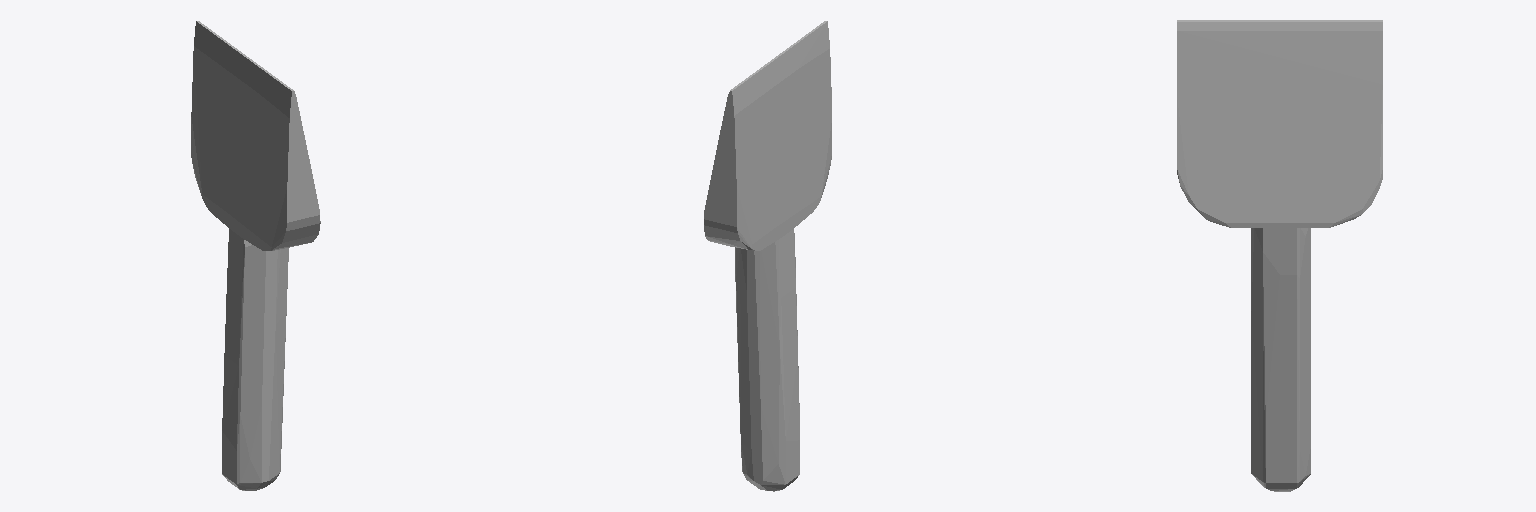
URDF robot description (root):
<robot name="root">
  <link name="link_thingiverse~spade_5372852_convex_piece_0">
    <inertial>
      <origin rpy="0 0 0" xyz="0 0 0"/>
      <mass value="3.45E-01"/>
      <inertia ixx="2.24E-03" ixy="-3.62E-08" ixz="2.30E-05" iyy="2.24E-03" iyz="-7.67E-06" izz="4.09E-05"/>
    </inertial>
    <visual>
      <origin rpy="0 0 0" xyz="0 0 0"/>
      <geometry>
        <mesh filename="thingiverse~spade_5372852_convex_piece_0.obj" scale="1.0000E+00 1.0000E+00 1.0000E+00"/>
      </geometry>
      <material name="">
        <color rgba="7.50E-01 7.50E-01 7.50E-01 1"/>
      </material>
    </visual>
    <collision>
      <origin rpy="0 0 0" xyz="0 0 0"/>
      <geometry>
        <mesh filename="thingiverse~spade_5372852_convex_piece_0.obj" scale="1.0000E+00 1.0000E+00 1.0000E+00"/>
      </geometry>
    </collision>
  </link>
  <link name="link_thingiverse~spade_5372852_convex_piece_1">
    <inertial>
      <origin rpy="0 0 0" xyz="0 0 0"/>
      <mass value="5.12E-01"/>
      <inertia ixx="2.03E-03" ixy="3.17E-07" ixz="-5.60E-05" iyy="1.62E-03" iyz="-8.11E-06" izz="4.51E-04"/>
    </inertial>
    <visual>
      <origin rpy="0 0 0" xyz="0 0 0"/>
      <geometry>
        <mesh filename="thingiverse~spade_5372852_convex_piece_1.obj" scale="1.0000E+00 1.0000E+00 1.0000E+00"/>
      </geometry>
      <material name="">
        <color rgba="7.50E-01 7.50E-01 7.50E-01 1"/>
      </material>
    </visual>
    <collision>
      <origin rpy="0 0 0" xyz="0 0 0"/>
      <geometry>
        <mesh filename="thingiverse~spade_5372852_convex_piece_1.obj" scale="1.0000E+00 1.0000E+00 1.0000E+00"/>
      </geometry>
    </collision>
  </link>
  <joint name="link_thingiverse~spade_5372852_convex_piece_1_joint" type="fixed">
    <origin rpy="0 0 0" xyz="0 0 0"/>
    <parent link="link_thingiverse~spade_5372852_convex_piece_0"/>
    <child link="link_thingiverse~spade_5372852_convex_piece_1"/>
  </joint>
</robot>

--- Render facts (derived) ---
3 views of the same robot in one strip: view 1: azimuth 30°, elevation 25°; view 2: azimuth 150°, elevation 25°; view 3: azimuth 270°, elevation 25° (orthographic).
Robot: root — 2 links, 1 joints (1 fixed); root link link_thingiverse~spade_5372852_convex_piece_0; default pose: every joint at zero.
Visible links, largest first — view 1: link_thingiverse~spade_5372852_convex_piece_1, link_thingiverse~spade_5372852_convex_piece_0; view 2: link_thingiverse~spade_5372852_convex_piece_1, link_thingiverse~spade_5372852_convex_piece_0; view 3: link_thingiverse~spade_5372852_convex_piece_1, link_thingiverse~spade_5372852_convex_piece_0.
Boxes of the visible links, left/top/right/bottom form: link_thingiverse~spade_5372852_convex_piece_1: left=191, top=21, right=320, bottom=250; link_thingiverse~spade_5372852_convex_piece_0: left=222, top=229, right=288, bottom=490; link_thingiverse~spade_5372852_convex_piece_1: left=704, top=21, right=831, bottom=250; link_thingiverse~spade_5372852_convex_piece_0: left=735, top=229, right=799, bottom=491; link_thingiverse~spade_5372852_convex_piece_1: left=1177, top=20, right=1382, bottom=227; link_thingiverse~spade_5372852_convex_piece_0: left=1251, top=228, right=1310, bottom=491.
Bounding box of the posed robot: 0.0322 × 0.1053 × 0.2618 m (x, y, z).
Meshes: 2 distinct files referenced, 2 mesh visuals loaded (2 OBJ).
